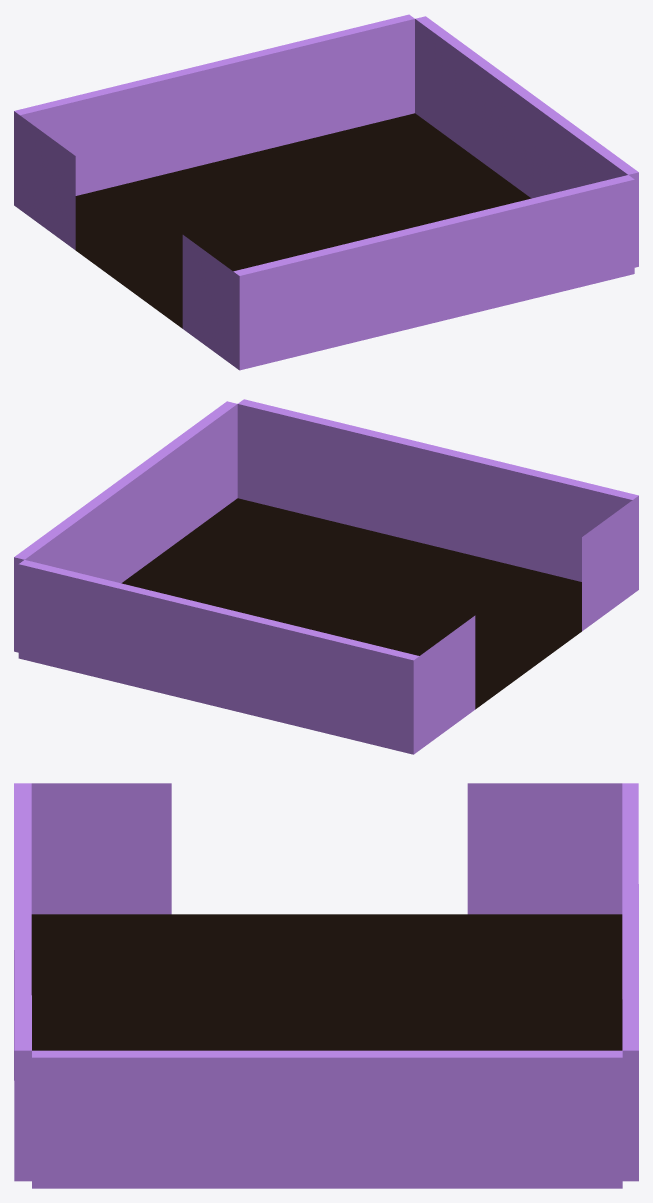
The model's file is base_tuto.fbx.
3 renders of one model, top to bottom at view 1: azimuth 30°, elevation 25°; view 2: azimuth 150°, elevation 25°; view 3: azimuth 270°, elevation 25°, orthographic. The views are drawn at different scales.
Visible parts, largest first — view 1: Tut_Base; view 2: Tut_Base; view 3: Tut_Base.
Boxes of the visible parts, bbox=[...] form: Tut_Base: bbox=[14, 14, 638, 370]; Tut_Base: bbox=[14, 399, 638, 754]; Tut_Base: bbox=[14, 783, 638, 1188].
Size of the model in its own units: 4432 by 985 by 4268.
